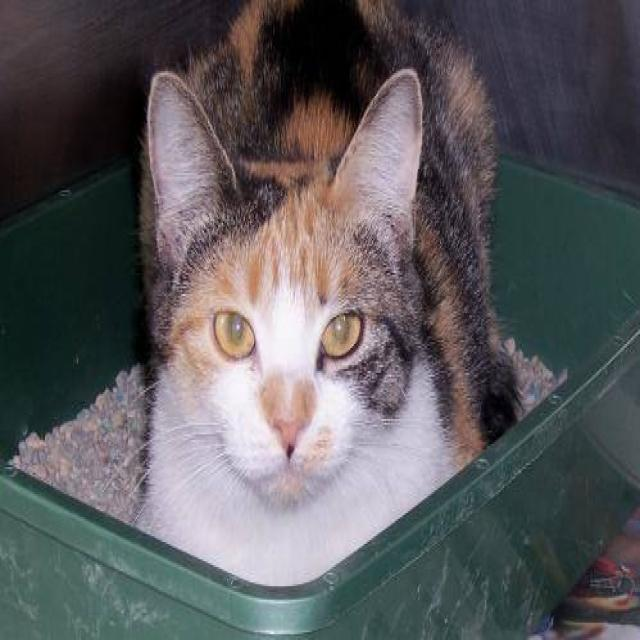cat: (131, 0, 526, 588)
